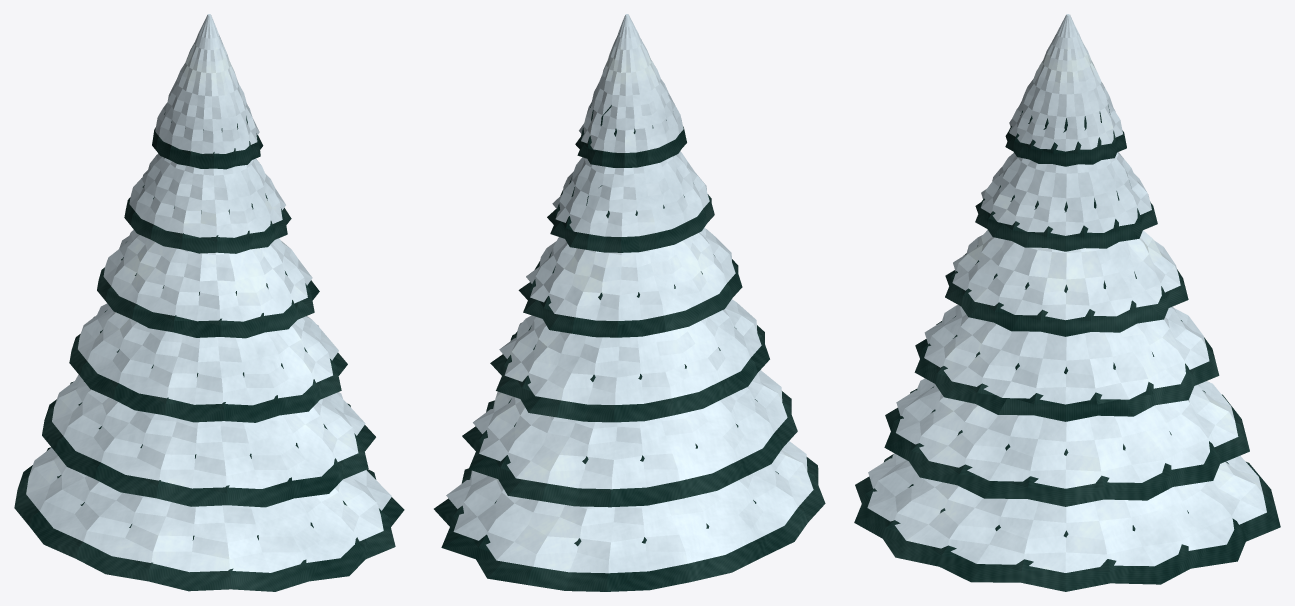
The model's file is FirstRoom_SnowPine.fbx.
3 renders of one model, left to right at view 1: azimuth 30°, elevation 25°; view 2: azimuth 150°, elevation 25°; view 3: azimuth 270°, elevation 25°, orthographic.
Visible parts, largest first — view 1: WO_FirstRoom_SnowPine_LOD0; view 2: WO_FirstRoom_SnowPine_LOD0; view 3: WO_FirstRoom_SnowPine_LOD0.
Boxes of the visible parts, x1,y1,x2,y2 form: WO_FirstRoom_SnowPine_LOD0: [14, 14, 404, 591]; WO_FirstRoom_SnowPine_LOD0: [434, 14, 825, 591]; WO_FirstRoom_SnowPine_LOD0: [854, 14, 1280, 591].
Size of what is drawn, in the model's own units: 3.7 by 6 by 4.13.
